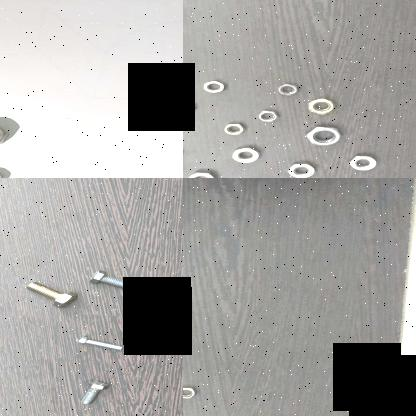Bolts: (17, 276, 81, 312), (67, 331, 130, 359), (71, 376, 112, 409), (86, 269, 140, 294)
NUTS: (302, 124, 342, 147), (346, 152, 379, 172), (304, 97, 338, 114), (226, 147, 262, 163), (285, 160, 315, 178), (199, 80, 230, 95), (274, 82, 300, 98), (183, 385, 201, 401), (0, 123, 11, 147), (186, 171, 216, 178), (183, 99, 194, 115)
